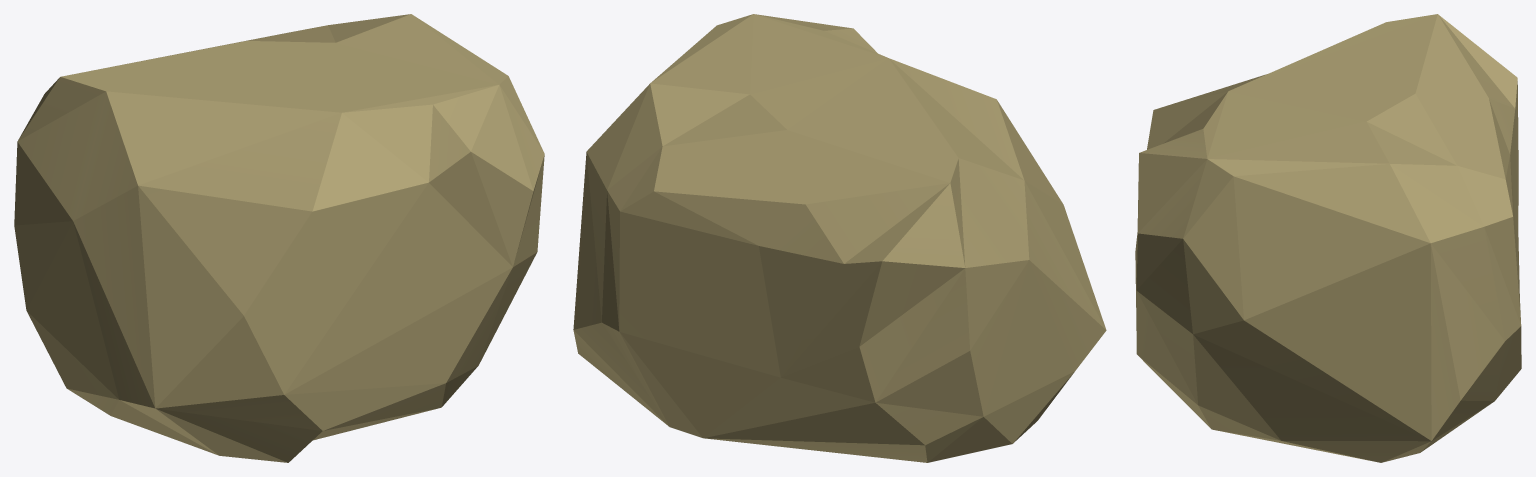
Rendered from SM_small_rock_56.fbx.
3 renders of one model, left to right at view 1: azimuth 30°, elevation 25°; view 2: azimuth 150°, elevation 25°; view 3: azimuth 270°, elevation 25°, orthographic. The views are drawn at different scales.
Parts seen in each view (by area): view 1: small_rock_56; view 2: small_rock_56; view 3: small_rock_56.
Part boxes in pixels (<box>): small_rock_56: <box>14,14,544,462</box>; small_rock_56: <box>573,14,1106,462</box>; small_rock_56: <box>1135,14,1521,462</box>.
Size of the model in its own units: 81.07 by 59.27 by 69.28.
